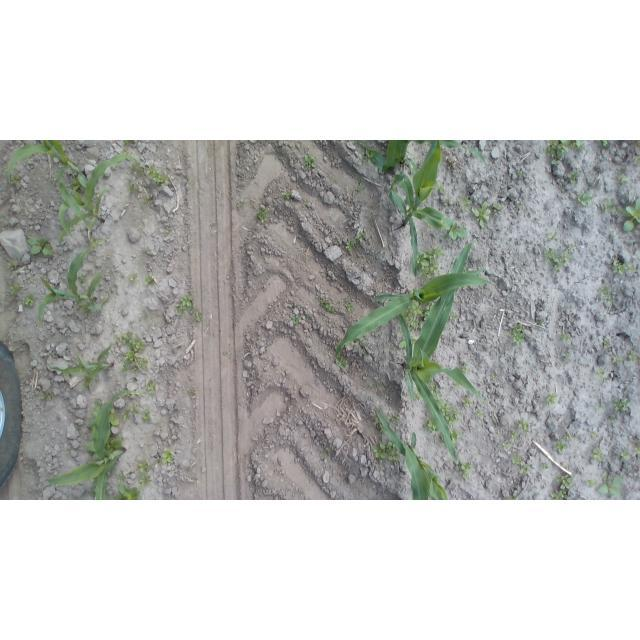Maize: (397, 241, 483, 467), (336, 273, 493, 370), (46, 390, 138, 500), (389, 141, 448, 278), (58, 153, 141, 243), (375, 405, 447, 499), (36, 239, 110, 330), (355, 141, 490, 174), (45, 342, 114, 390), (8, 141, 81, 184)
Weeds: (116, 333, 148, 376), (545, 140, 586, 165), (544, 244, 576, 273), (417, 247, 446, 278), (619, 199, 640, 233), (441, 216, 469, 240), (598, 472, 624, 496), (550, 473, 572, 499), (26, 236, 52, 256), (472, 202, 491, 229), (147, 165, 168, 187), (109, 486, 142, 500), (373, 443, 397, 462), (612, 257, 636, 276), (176, 294, 194, 318), (356, 140, 375, 162), (508, 324, 525, 347), (405, 306, 421, 330), (576, 189, 594, 207), (425, 416, 440, 433), (319, 299, 336, 314), (612, 398, 629, 413), (457, 195, 472, 211), (566, 168, 581, 184), (459, 459, 471, 479), (303, 155, 317, 172), (142, 309, 157, 323), (145, 379, 157, 396), (450, 425, 461, 443), (445, 412, 460, 425), (602, 198, 615, 213), (128, 165, 145, 176), (161, 449, 174, 463), (438, 403, 452, 416), (10, 284, 25, 296), (108, 438, 123, 450), (138, 460, 151, 473), (590, 448, 603, 461), (342, 298, 354, 312), (256, 207, 268, 221), (546, 392, 558, 406), (619, 448, 631, 462), (281, 190, 294, 202), (373, 419, 384, 433), (140, 194, 152, 206), (140, 408, 152, 420), (388, 413, 400, 425), (517, 418, 529, 430), (508, 430, 520, 442), (510, 451, 522, 463), (129, 184, 140, 197), (109, 414, 120, 427), (24, 293, 34, 307), (460, 397, 474, 407), (556, 439, 566, 453), (38, 393, 53, 402), (141, 246, 152, 258), (617, 173, 628, 185), (546, 231, 558, 242), (518, 463, 530, 474), (564, 432, 577, 442), (78, 273, 87, 287), (130, 403, 141, 414), (291, 314, 302, 325), (145, 273, 155, 285), (596, 367, 606, 379), (194, 310, 203, 323), (11, 173, 22, 183), (140, 474, 151, 484), (235, 199, 245, 210), (599, 285, 609, 296), (628, 348, 637, 360), (122, 408, 130, 421), (118, 471, 127, 482), (356, 231, 365, 242), (462, 362, 470, 374), (605, 294, 613, 306), (83, 379, 93, 388), (338, 357, 347, 367), (493, 202, 502, 212), (366, 200, 375, 210), (603, 338, 611, 349), (613, 356, 624, 364), (502, 440, 510, 451), (423, 305, 429, 319), (347, 240, 354, 252), (128, 274, 137, 283), (79, 304, 88, 313), (431, 385, 440, 394), (475, 410, 484, 419), (301, 198, 310, 207), (356, 183, 365, 192), (541, 462, 550, 471), (634, 442, 640, 455), (399, 338, 405, 350), (560, 333, 569, 341), (608, 414, 617, 422), (435, 396, 445, 403), (590, 428, 597, 438), (586, 480, 596, 487), (188, 388, 196, 396), (449, 313, 456, 322), (515, 202, 522, 211), (368, 216, 375, 225), (224, 352, 233, 359), (507, 493, 517, 499), (7, 263, 15, 270), (415, 394, 422, 402), (375, 380, 381, 389), (121, 149, 131, 154), (451, 382, 458, 389), (538, 321, 545, 328), (393, 185, 400, 192), (602, 141, 609, 148), (442, 199, 450, 205), (326, 445, 333, 451), (491, 375, 498, 381), (599, 405, 605, 412), (473, 452, 480, 458), (123, 141, 131, 146), (167, 226, 172, 234), (635, 156, 640, 164), (103, 297, 109, 303), (64, 450, 71, 455), (321, 456, 328, 461), (440, 435, 445, 442), (360, 341, 365, 348), (518, 171, 523, 178), (362, 350, 367, 356), (636, 141, 640, 148), (3, 180, 8, 185), (412, 339, 417, 344), (509, 360, 514, 365), (565, 354, 570, 359), (210, 224, 215, 229), (524, 430, 529, 434), (501, 238, 505, 243), (306, 314, 310, 318), (623, 167, 626, 172), (596, 141, 601, 144)
